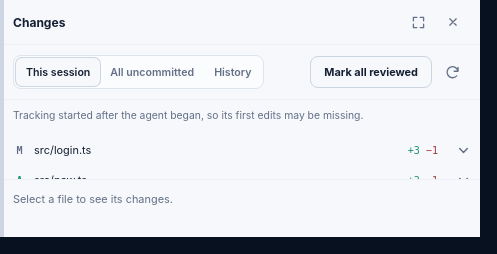
Scenario: ChangesPanel › switches to all uncommitted changes without review actions
Click the button "All uncommitted" at (152, 72), box [100, 58, 204, 86]
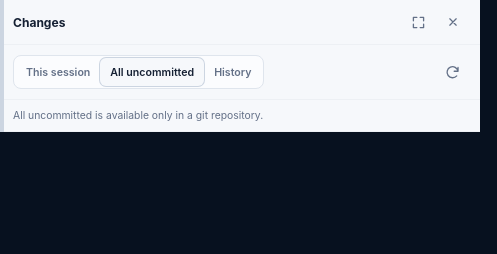
Expected: the text "All uncommitted is available only in a git repository." is shown, [13, 109, 263, 121]
Expected: the button "Mark all reviewed" is gone
